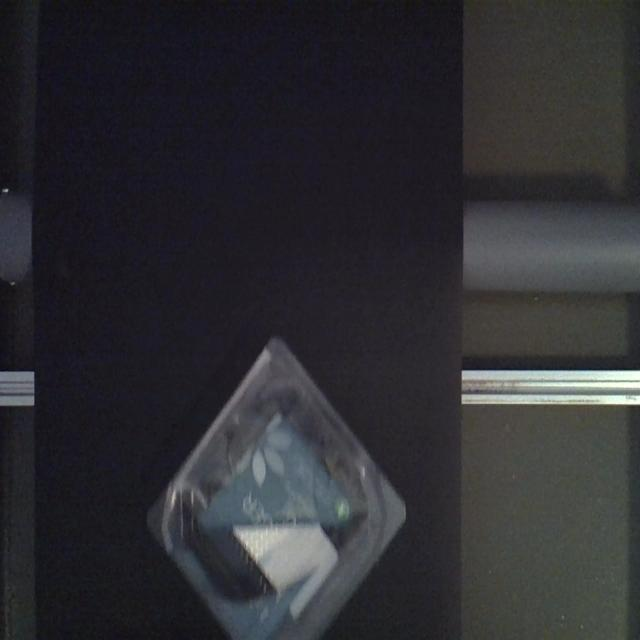mixed-plastics: (145, 331, 408, 637)
